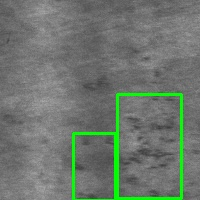rolled-in_scale: (117, 94, 181, 198), (73, 133, 115, 200)
